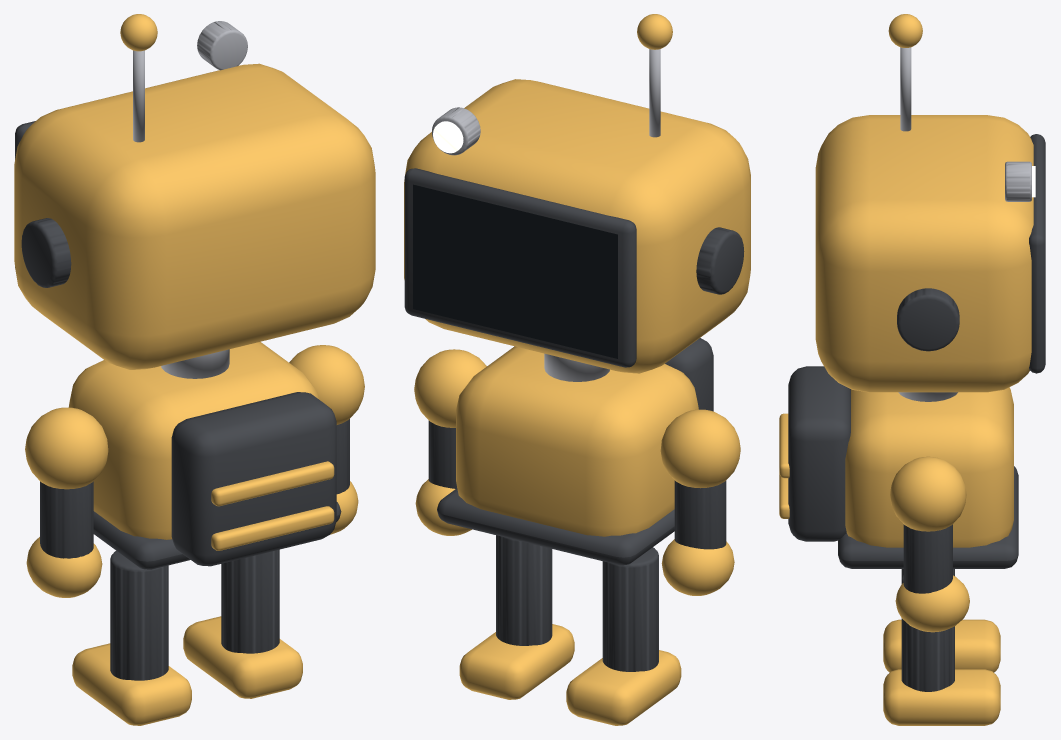
File: robot.glb
3 renders of one model, left to right at view 1: azimuth 30°, elevation 25°; view 2: azimuth 150°, elevation 25°; view 3: azimuth 270°, elevation 25°, orthographic. The views are drawn at different scales.
Parts seen in each view (by area): view 1: Head, Pack, Torso, Leg_L, Leg_R, Shoulder_L, Foot_L, Foot_R, Arm_L, Shoulder_R, Hand_L, Ear_L (+9 smaller); view 2: Head, Torso, Screen, Bezel, Leg_L, Belt, Leg_R, Foot_R, Foot_L, Shoulder_L, Shoulder_R, Arm_L (+10 smaller); view 3: Head, Torso, Pack, Foot_R, Shoulder_R, Belt, Bezel, Leg_R, Ear_R, Foot_L, Arm_R, Hand_R (+5 smaller).
Boxes of the visible parts, left/top/right/bottom form: Head: left=14, top=63, right=375, bottom=369; Pack: left=171, top=392, right=336, bottom=566; Torso: left=68, top=341, right=319, bottom=539; Leg_L: left=110, top=551, right=168, bottom=680; Leg_R: left=221, top=549, right=279, bottom=653; Shoulder_L: left=25, top=407, right=108, bottom=489; Foot_L: left=72, top=643, right=191, bottom=725; Foot_R: left=183, top=616, right=302, bottom=698; Arm_L: left=40, top=481, right=93, bottom=558; Shoulder_R: left=289, top=345, right=364, bottom=424; Hand_L: left=26, top=537, right=102, bottom=597; Ear_L: left=21, top=218, right=71, bottom=287; Head: left=404, top=79, right=750, bottom=373; Torso: left=456, top=346, right=698, bottom=536; Screen: left=413, top=184, right=617, bottom=358; Bezel: left=404, top=168, right=636, bottom=367; Leg_L: left=602, top=547, right=658, bottom=671; Belt: left=437, top=488, right=674, bottom=565; Leg_R: left=496, top=535, right=552, bottom=645; Foot_R: left=459, top=624, right=574, bottom=699; Foot_L: left=566, top=650, right=681, bottom=725; Shoulder_L: left=660, top=409, right=740, bottom=488; Shoulder_R: left=414, top=349, right=486, bottom=427; Arm_L: left=674, top=480, right=726, bottom=549; Head: left=815, top=115, right=1033, bottom=392; Torso: left=845, top=387, right=1013, bottom=547; Pack: left=788, top=366, right=850, bottom=541; Foot_R: left=883, top=669, right=1000, bottom=725; Shoulder_R: left=890, top=456, right=966, bottom=531; Belt: left=838, top=466, right=1018, bottom=568; Bezel: left=1029, top=134, right=1045, bottom=373; Leg_R: left=901, top=575, right=954, bottom=691; Ear_R: left=897, top=288, right=959, bottom=351; Foot_L: left=883, top=619, right=1000, bottom=672; Arm_R: left=903, top=524, right=952, bottom=593; Hand_R: left=895, top=575, right=969, bottom=632.
Bounding box in the file's own units: 0.77 × 1.58 × 0.592.
